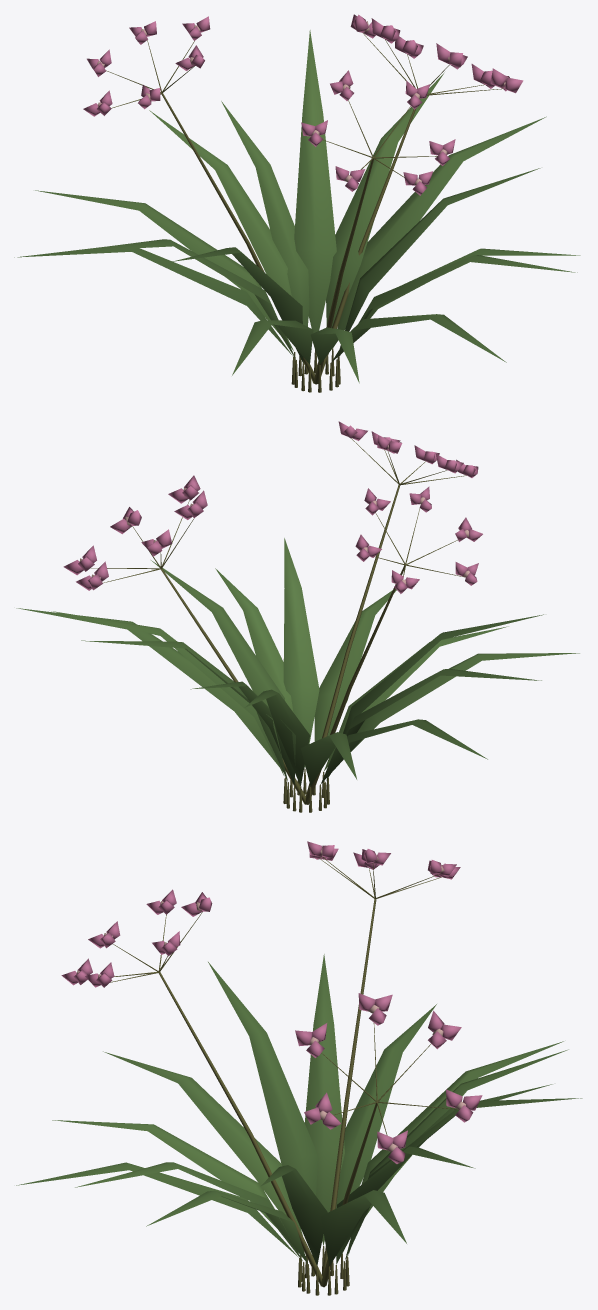
The model's file is sea_thrift.glb.
3 views of the same model, one above another, from view 1: azimuth 30°, elevation 25°; view 2: azimuth 150°, elevation 25°; view 3: azimuth 270°, elevation 25° (orthographic). The views are drawn at different scales.
Visible parts, largest first — view 1: sea_thrift; view 2: sea_thrift; view 3: sea_thrift.
Part boxes in pixels (x1,y1,x2,y2): sea_thrift: (14,14,580,392); sea_thrift: (16,421,579,812); sea_thrift: (16,841,582,1295).
Size of the model in its own units: 0.3497 by 0.2381 by 0.3128.
